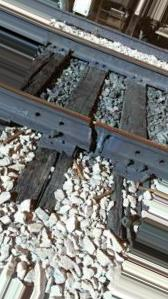tracks_fault: (79, 107, 114, 166)
